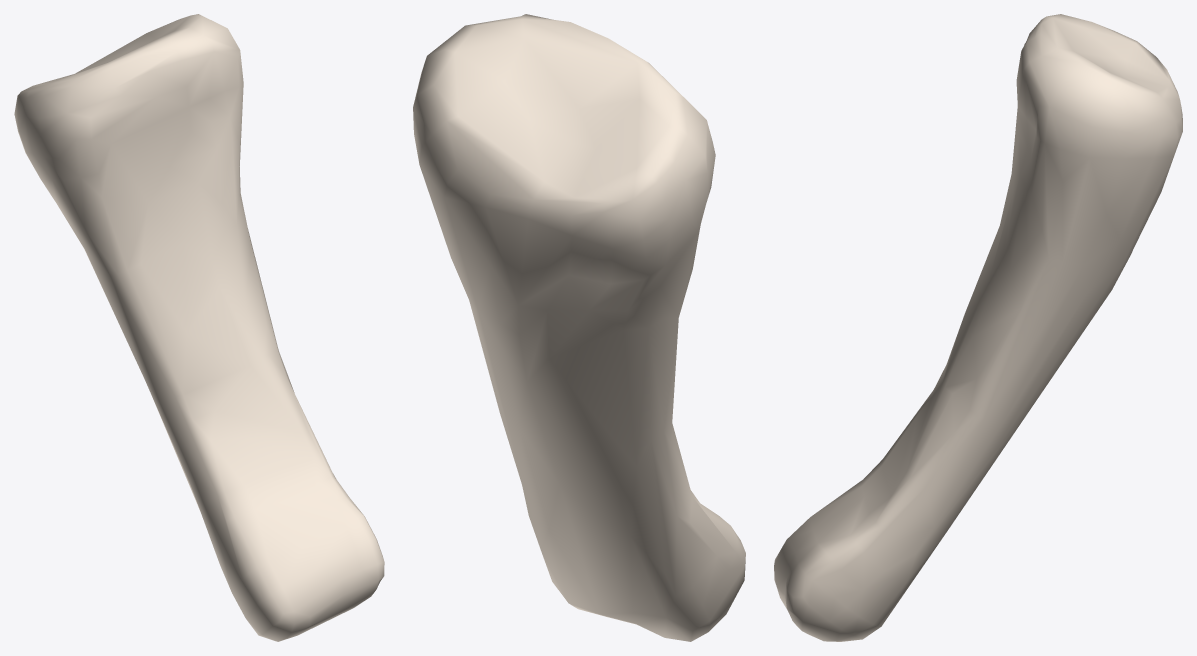
The model's file is right_digit_5_proximal.glb.
3 views of the same model, side by side, from view 1: azimuth 30°, elevation 25°; view 2: azimuth 150°, elevation 25°; view 3: azimuth 270°, elevation 25° (orthographic). The views are drawn at different scales.
Parts seen in each view (by area): view 1: Proximal phalanx of 5th finger.r; view 2: Proximal phalanx of 5th finger.r; view 3: Proximal phalanx of 5th finger.r.
Part boxes in pixels (x1,y1,x2,y2): Proximal phalanx of 5th finger.r: [14, 14, 384, 641]; Proximal phalanx of 5th finger.r: [413, 14, 745, 641]; Proximal phalanx of 5th finger.r: [774, 14, 1182, 641].
Bounding box in the file's own units: 0.0145 × 0.0333 × 0.0212.
